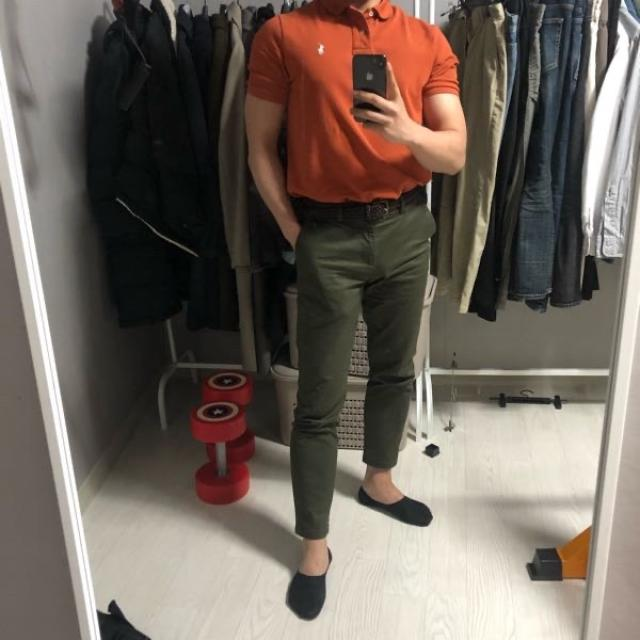cottonpants: (290, 186, 434, 537)
shortsleeve: (244, 0, 462, 205)
